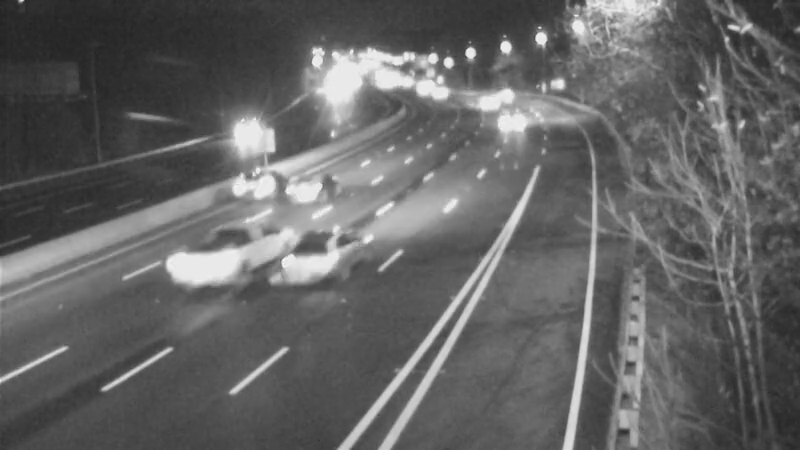vehicle: (272, 159, 352, 239), (209, 143, 289, 223), (282, 216, 362, 296), (176, 219, 256, 299), (492, 98, 542, 148), (219, 116, 269, 166)
